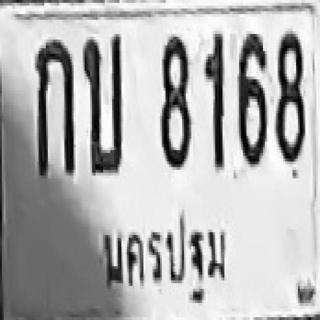A01: (35, 37, 74, 176)
A26: (82, 32, 122, 174)
N01: (203, 33, 225, 168)
N06: (237, 31, 267, 167)
N08: (160, 35, 191, 168), (275, 30, 304, 163)
P28: (94, 205, 233, 307)
